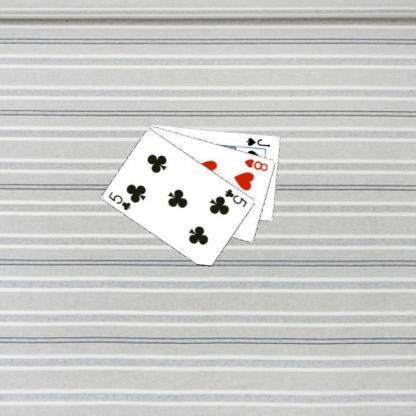5C: (223, 186, 249, 209), (106, 189, 132, 211)
8H: (242, 156, 269, 172)
JS: (244, 135, 271, 148)
